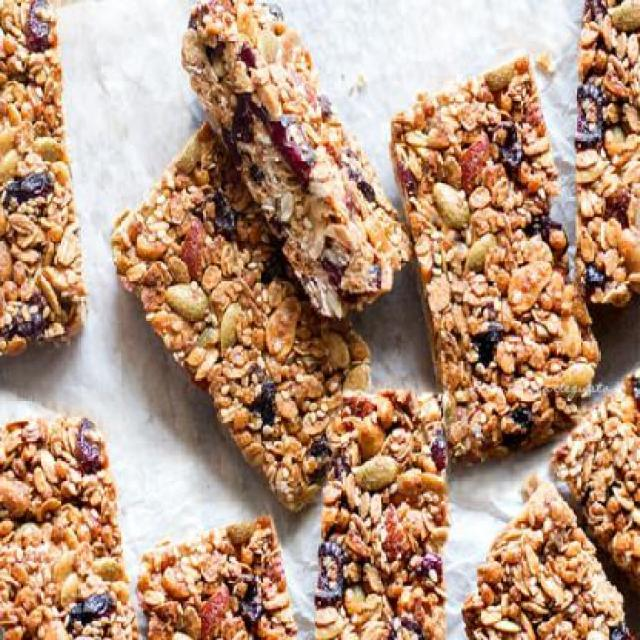Cereal bar packaged: (122, 145, 350, 498), (390, 50, 587, 439), (186, 2, 399, 312), (308, 383, 459, 639)
